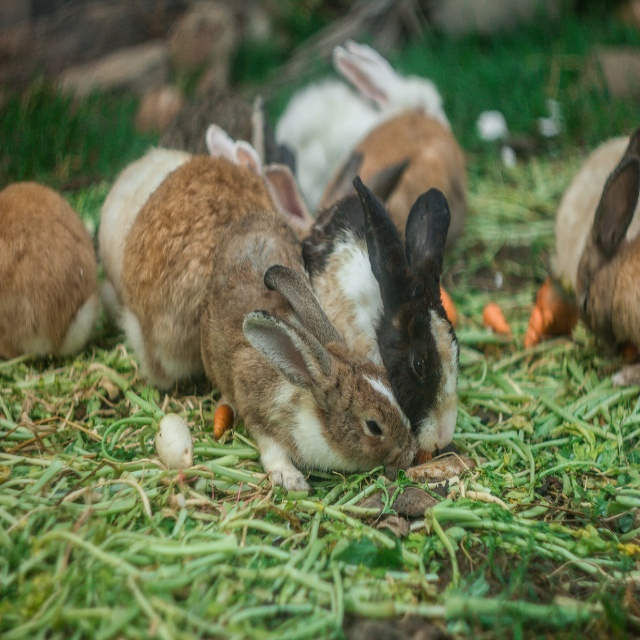Rabbit: (0, 43, 640, 492)
